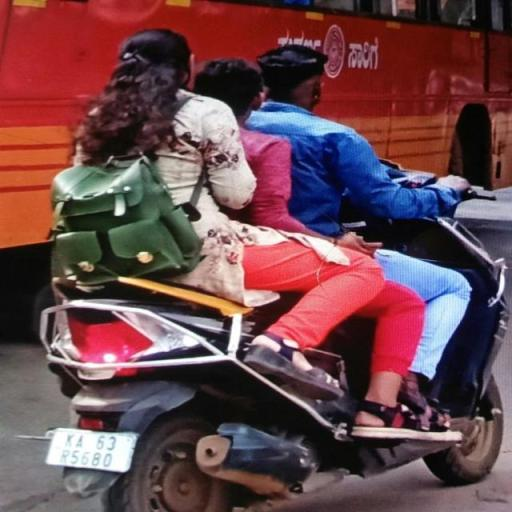tripple riding: (36, 26, 477, 302)
